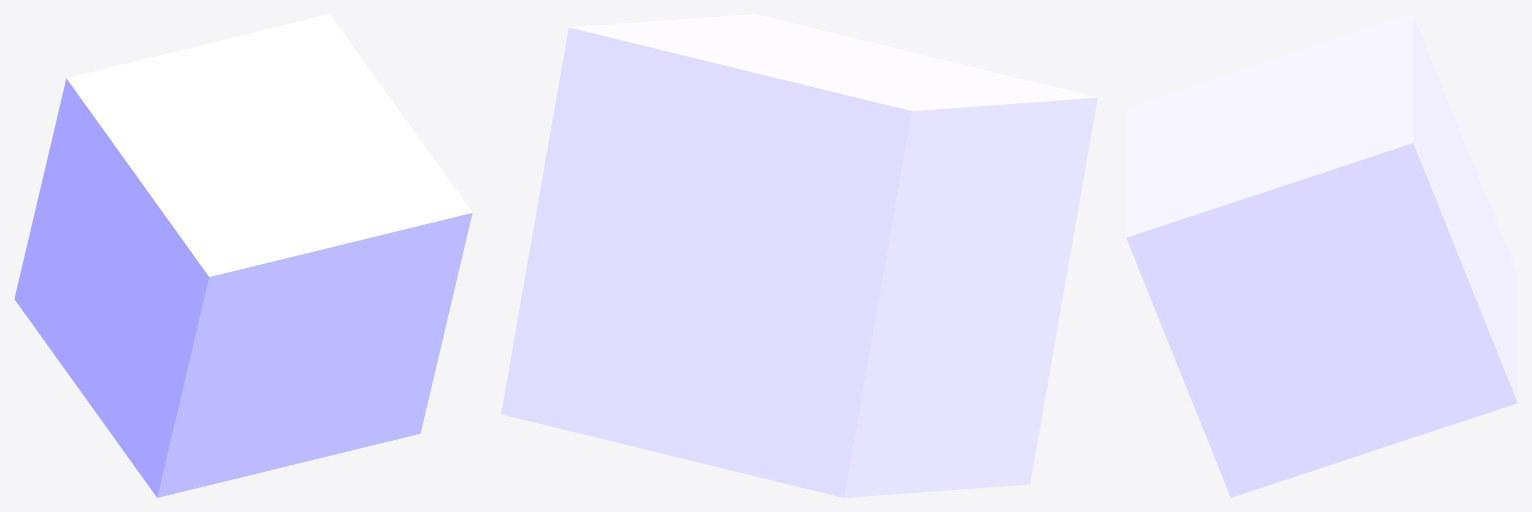
The picture shows the model from 3 angles, left to right: view 1: azimuth 30°, elevation 25°; view 2: azimuth 150°, elevation 25°; view 3: azimuth 270°, elevation 25°; orthographic projection. The views are drawn at different scales.
Visible parts, largest first — view 1: Box; view 2: Box; view 3: Box.
Part boxes in pixels (x1,y1,x2,y2): Box: [14, 14, 472, 497]; Box: [501, 14, 1097, 497]; Box: [1126, 14, 1517, 497].
Bounding box in the file's own units: 1 × 1.28 × 1.28.
